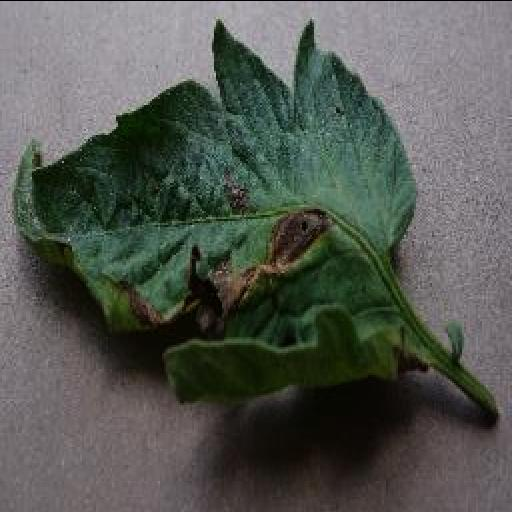disease_tomato: (10, 24, 422, 400)
